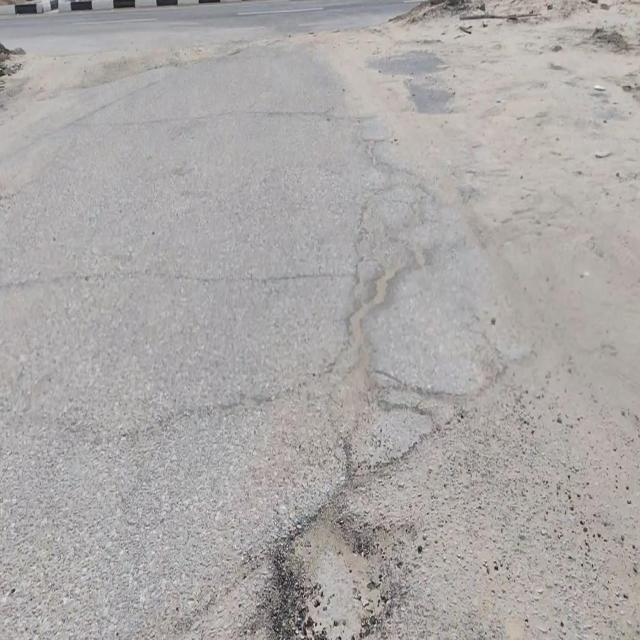Potholes: (263, 498, 401, 640)
